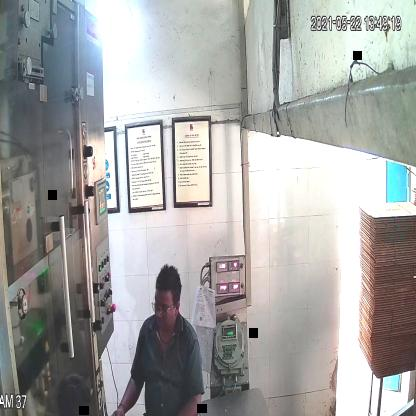goggles: (149, 296, 182, 318)
